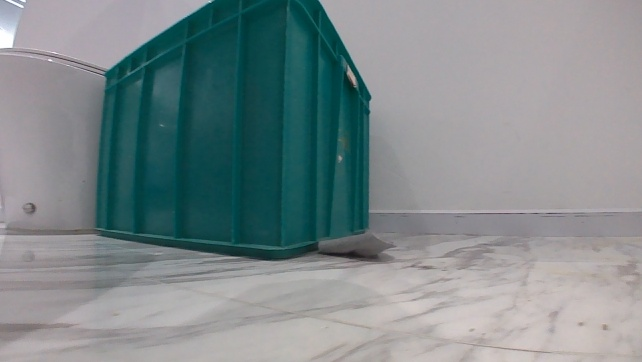socks: (315, 228, 398, 259)
toilet: (0, 40, 111, 236)
